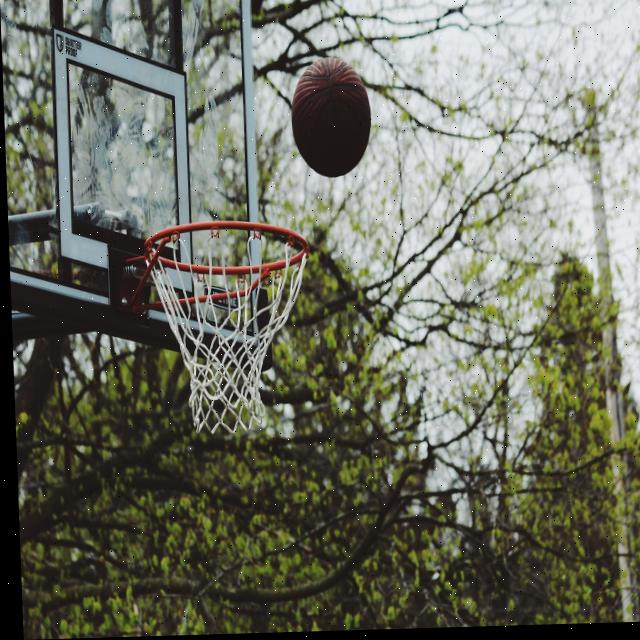Basketball: (289, 54, 371, 179)
